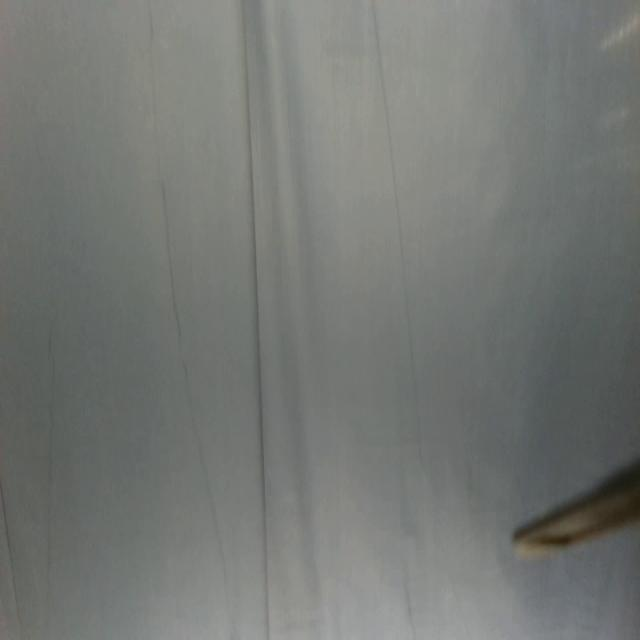crease: (146, 5, 230, 626), (367, 0, 427, 451), (239, 0, 271, 640), (42, 344, 57, 636), (0, 473, 23, 640)
